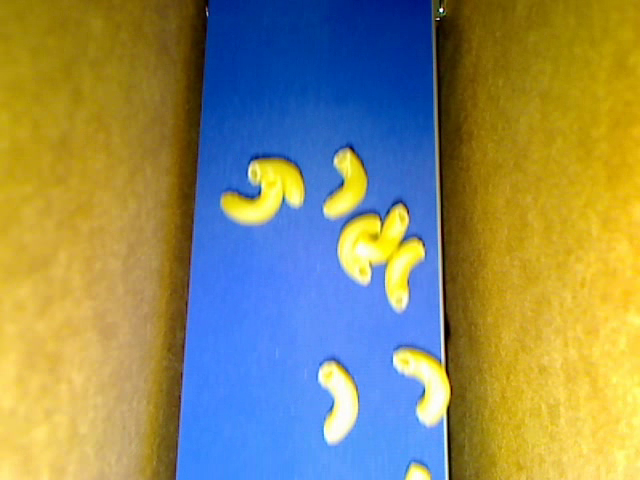elbow: (392, 345, 450, 429), (316, 359, 359, 446), (354, 201, 411, 265), (220, 172, 283, 227), (322, 146, 368, 220), (384, 235, 427, 314), (337, 212, 381, 287), (247, 156, 305, 207), (403, 461, 431, 479)
